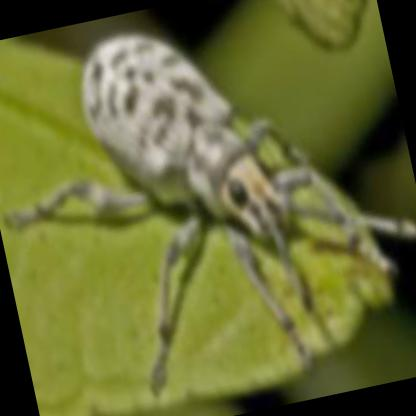ash weevil: (12, 29, 306, 384)
